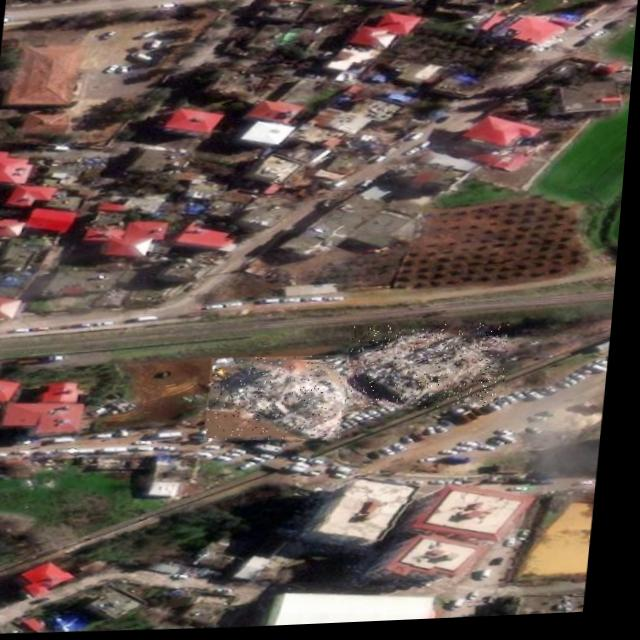Rubble: (351, 323, 516, 415), (211, 355, 355, 445)
